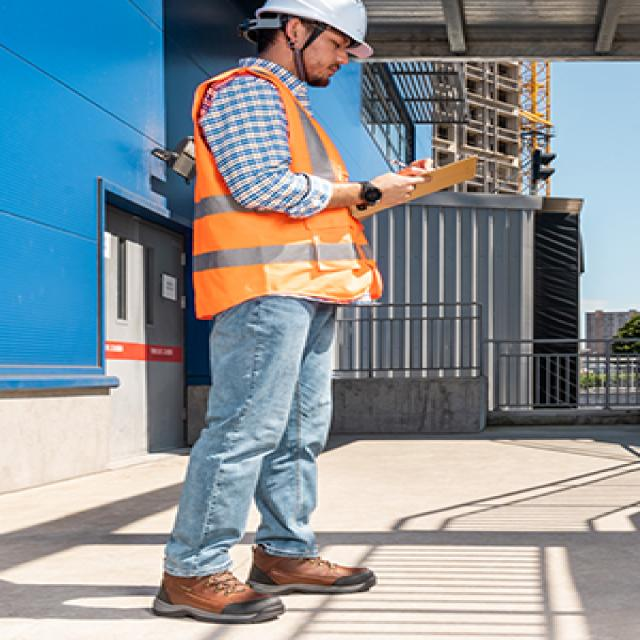shoes: (139, 568, 288, 623), (242, 539, 379, 596)
